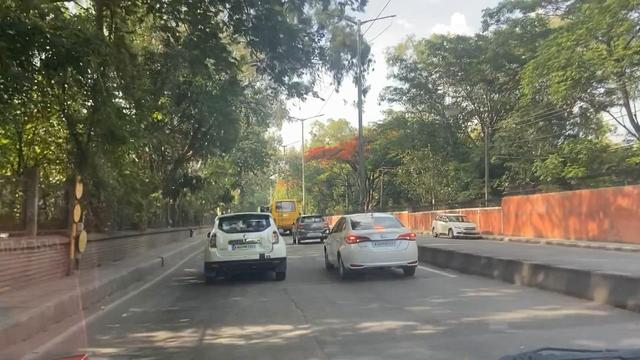LMV: (329, 214, 418, 274), (205, 214, 286, 275), (294, 215, 327, 238)
RoadDamages: (283, 289, 329, 360)
